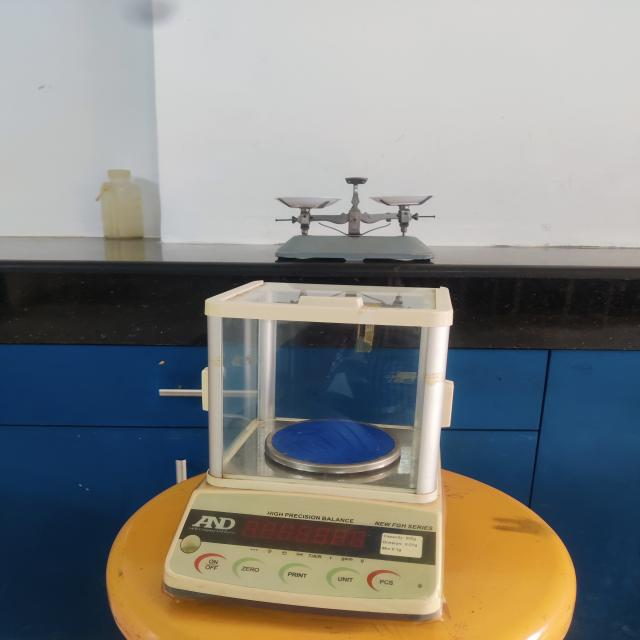Mechanical_Balance_Scale: (252, 162, 448, 270)
Precision_Weight_Scale: (156, 273, 451, 626)
